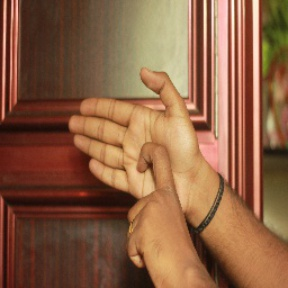R: (72, 62, 208, 259)
